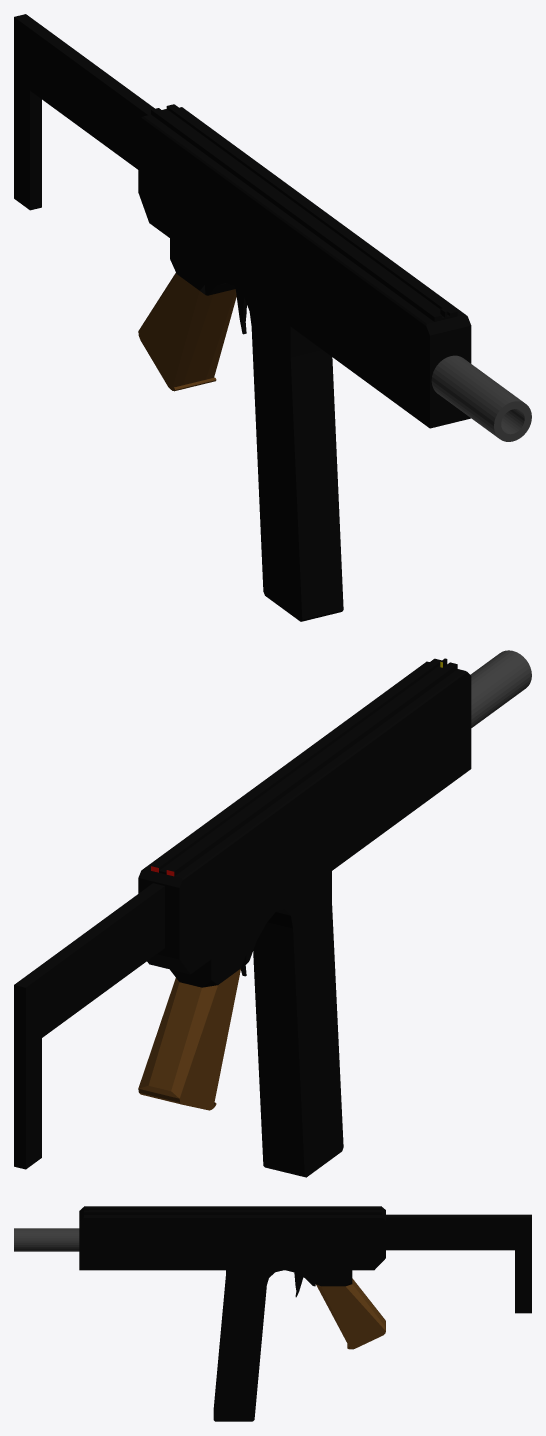
Rendered from SMG.fbx.
3 views of the same model, one above another, from view 1: azimuth 30°, elevation 25°; view 2: azimuth 150°, elevation 25°; view 3: azimuth 270°, elevation 25° (orthographic). The views are drawn at different scales.
Visible parts, largest first — view 1: Cube; view 2: Cube; view 3: Cube.
Part boxes in pixels (x1=…): Cube: x1=14, y1=14, x2=531, y2=621; Cube: x1=14, y1=650, x2=531, y2=1177; Cube: x1=14, y1=1206, x2=531, y2=1421.
Size of the model in its own units: 39.63 by 363 by 818.
